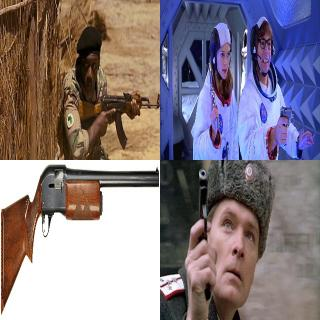gun: (0, 162, 158, 310), (77, 88, 159, 149), (188, 166, 214, 302), (205, 59, 221, 143), (278, 99, 296, 150)
